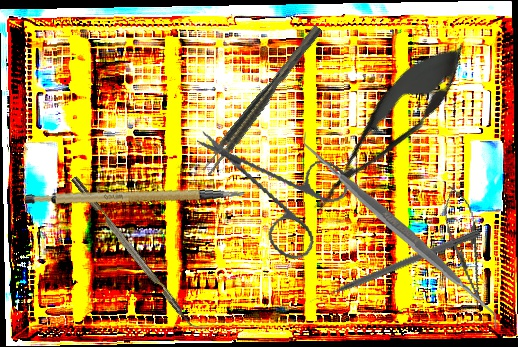Chopper: (71, 170, 207, 338)
Iris Scissors: (195, 105, 361, 274)
Micro Scissor: (295, 26, 482, 229)
Needle Holder: (437, 182, 494, 311)
Pusher: (306, 226, 483, 306)
Scalpel Handle: (24, 163, 245, 235)
Spatula Surgical: (297, 131, 504, 330)
Tissue Forceps: (198, 24, 328, 178)
